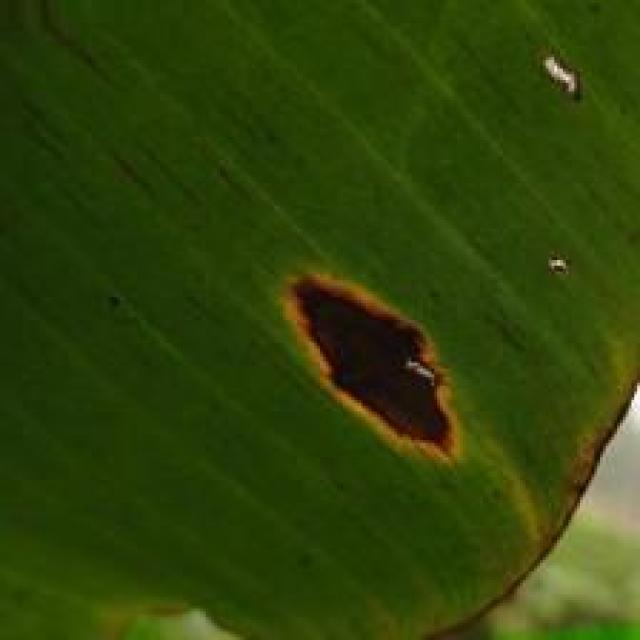Bacterial_spot: (271, 250, 466, 459), (526, 37, 595, 114), (544, 244, 572, 294)
